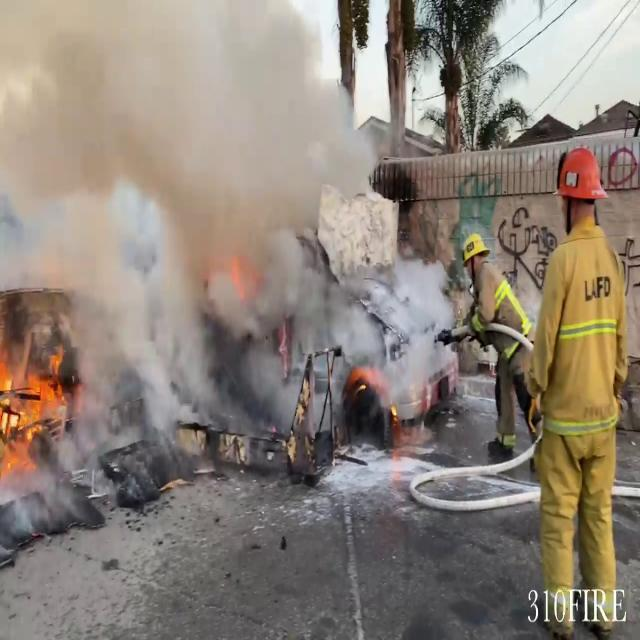Fire: (0, 310, 68, 481)
Smoke: (0, 0, 441, 474)
